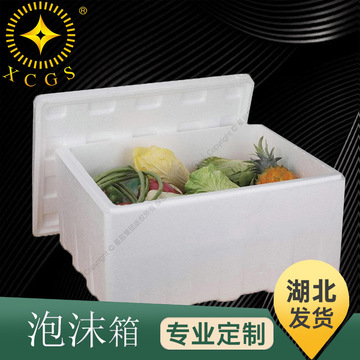Boxes: (32, 75, 345, 304)
